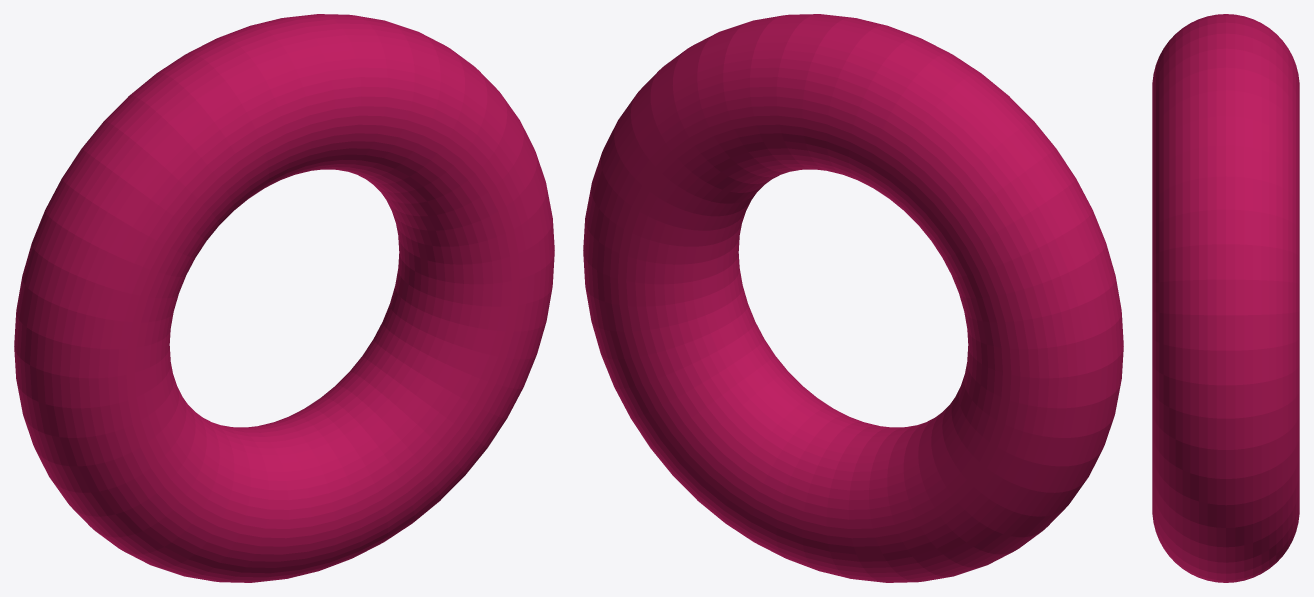
3 renders of one model, left to right at view 1: azimuth 30°, elevation 25°; view 2: azimuth 150°, elevation 25°; view 3: azimuth 270°, elevation 25°, orthographic. The views are drawn at different scales.
Visible parts, largest first — view 1: world; view 2: world; view 3: world.
Boxes of the visible parts, x1,y1,x2,y2 form: world: (14,14,554,582); world: (583,14,1123,582); world: (1152,14,1299,582).
Size of the model in its own units: 32.4 by 32.34 by 8.38.
